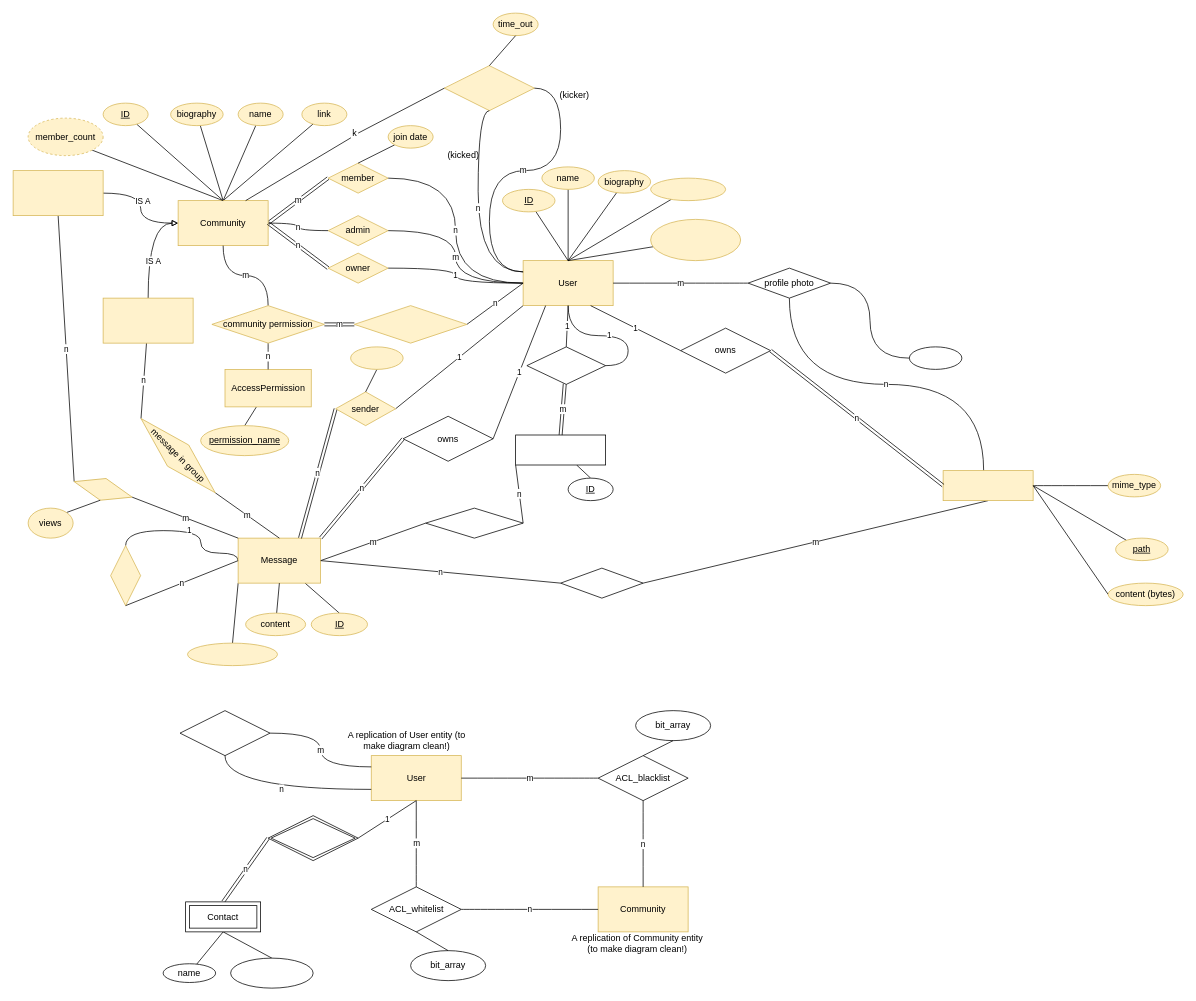
This 1196x1001 diagram has some shape labels left out. The shapes that lost their labels are listed below. From the top down, each one's centre as x and y in pixels, then its label:
At pixel 489 88: "kicked_out".
At pixel 57 193: "Channel".
At pixel 688 189: "phone_number".
At pixel 695 240: "phone_number_ visibility_bit_array".
At pixel 147 320: "Group".
At pixel 410 324: "is assigned to user(s)".
At pixel 376 357: "send date".
At pixel 566 365: "participants".
At pixel 935 357: "date added".
At pixel 560 449: "Chat".
At pixel 102 489: "post".
At pixel 987 485: "File".
At pixel 474 522: "message in chat".
At pixel 125 575: "replied_to".
At pixel 601 582: "attachement".
At pixel 232 654: "scheduled_date".
At pixel 224 733: "block_user".
At pixel 312 838: "user's contact".
At pixel 271 972: "phone_number (صفت ممیزه)".
